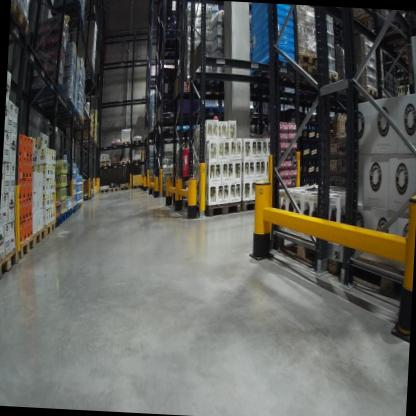pallet: (272, 223, 350, 282), (328, 245, 407, 297), (246, 54, 297, 92), (190, 196, 242, 222), (173, 74, 216, 102), (50, 0, 88, 29), (9, 0, 33, 42), (156, 26, 181, 60), (0, 244, 19, 281), (39, 95, 76, 113), (238, 196, 272, 214), (207, 75, 232, 99), (361, 81, 389, 101), (292, 63, 322, 81), (29, 223, 48, 251), (293, 47, 321, 65), (44, 104, 80, 118), (19, 232, 37, 259), (51, 113, 86, 126), (196, 102, 220, 120), (46, 111, 81, 122), (320, 68, 347, 82), (155, 125, 178, 139), (174, 124, 191, 137), (45, 220, 56, 237), (51, 214, 62, 229), (68, 201, 77, 218), (131, 136, 144, 147), (59, 210, 67, 225), (119, 180, 131, 190), (131, 156, 143, 166), (120, 138, 133, 147), (108, 182, 120, 191), (110, 141, 121, 150), (110, 158, 121, 167), (221, 106, 232, 115), (121, 158, 132, 165), (66, 208, 73, 218), (99, 188, 109, 193), (75, 201, 80, 210), (100, 163, 109, 168), (100, 160, 110, 164), (79, 200, 83, 206)
